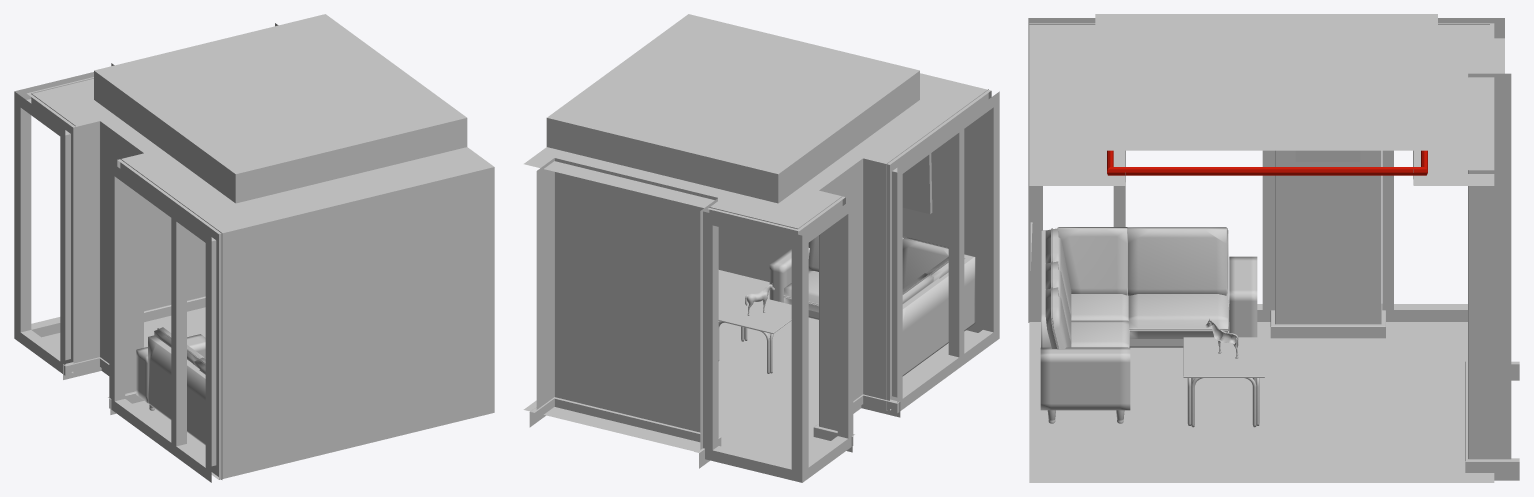
The model's file is BLAMNewRoom.dae.
The picture shows the model from 3 angles, left to right: view 1: azimuth 30°, elevation 25°; view 2: azimuth 150°, elevation 25°; view 3: azimuth 270°, elevation 25°; orthographic projection. The views are drawn at different scales.
Parts seen in each view (by area): view 1: Room, Window_Frames, Settee, Skirting; view 2: Room, Window_Frames, Settee, Table_Top, Cushion_07, Canvas_-_New_York, Skirting, Cushion_03; view 3: Room, Settee, Window_Frames, Cushion_09, Cushion_01, Cushion_08, Skirting, Table_Top, Pelmet_Light, Cushion_02, Cushion_04, Cushion_05 (+5 smaller).
Part boxes in pixels (x1=…): Room: x1=27, y1=14, x2=494, y2=479; Window_Frames: x1=14, y1=72, x2=222, y2=482; Settee: x1=136, y1=334, x2=205, y2=445; Skirting: x1=63, y1=296, x2=205, y2=414; Room: x1=523, y1=14, x2=991, y2=463; Window_Frames: x1=703, y1=89, x2=999, y2=482; Settee: x1=769, y1=248, x2=975, y2=376; Table_Top: x1=718, y1=292, x2=791, y2=333; Cushion_07: x1=902, y1=237, x2=948, y2=288; Canvas_-_New_York: x1=902, y1=153, x2=932, y2=214; Skirting: x1=529, y1=394, x2=900, y2=468; Cushion_03: x1=783, y1=271, x2=818, y2=312; Room: x1=1029, y1=14, x2=1511, y2=482; Settee: x1=1040, y1=230, x2=1257, y2=423; Window_Frames: x1=1028, y1=18, x2=1504, y2=322; Cushion_09: x1=1127, y1=227, x2=1227, y2=295; Cushion_01: x1=1128, y1=292, x2=1228, y2=338; Cushion_08: x1=1057, y1=227, x2=1127, y2=295; Skirting: x1=1270, y1=304, x2=1519, y2=480; Table_Top: x1=1183, y1=337, x2=1264, y2=377; Pelmet_Light: x1=1107, y1=150, x2=1427, y2=175; Cushion_02: x1=1071, y1=320, x2=1129, y2=347; Cushion_04: x1=1071, y1=293, x2=1129, y2=329; Cushion_05: x1=1045, y1=287, x2=1071, y2=349.
Size of the model in its own units: 6.42 by 7.95 by 6.07.
